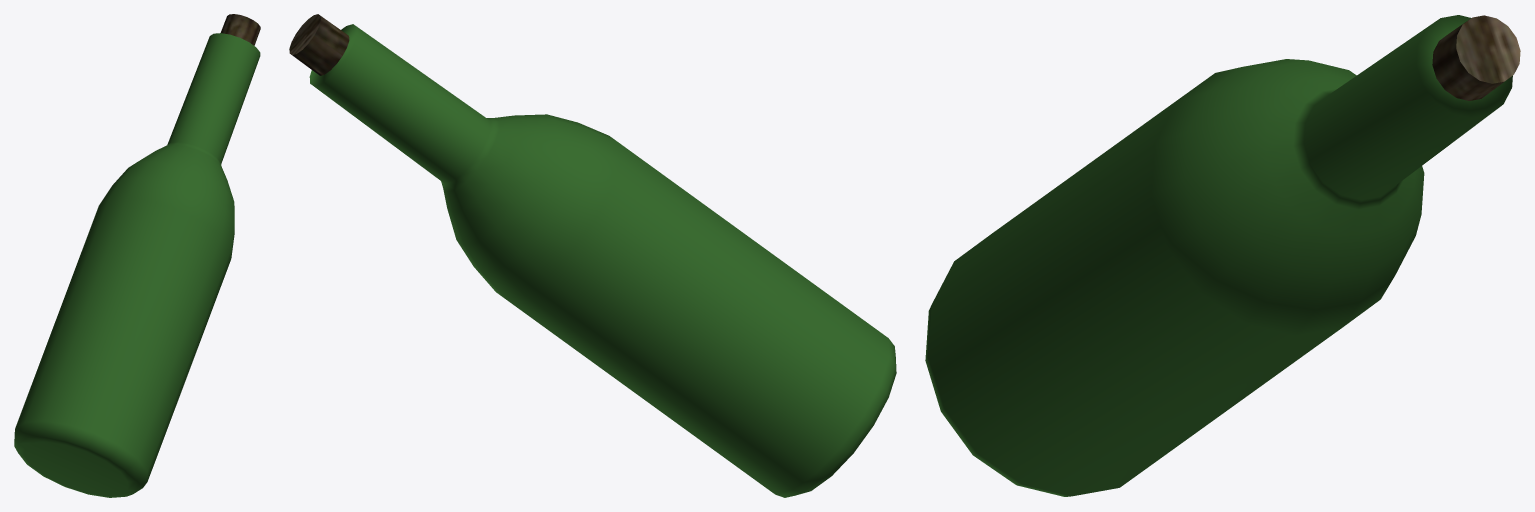
Rendered from bottle.glb.
The picture shows the model from 3 angles, left to right: view 1: azimuth 30°, elevation 25°; view 2: azimuth 150°, elevation 25°; view 3: azimuth 270°, elevation 25°; orthographic projection. The views are drawn at different scales.
Visible parts, largest first — view 1: botole; view 2: botole; view 3: botole.
Part boxes in pixels (x1,y1,x2,y2): botole: [14, 14, 260, 497]; botole: [289, 14, 896, 497]; botole: [925, 15, 1520, 496].
Bounding box in the file's own units: 0.0377 × 0.0381 × 0.0292.
2 materials, 1 textured.
